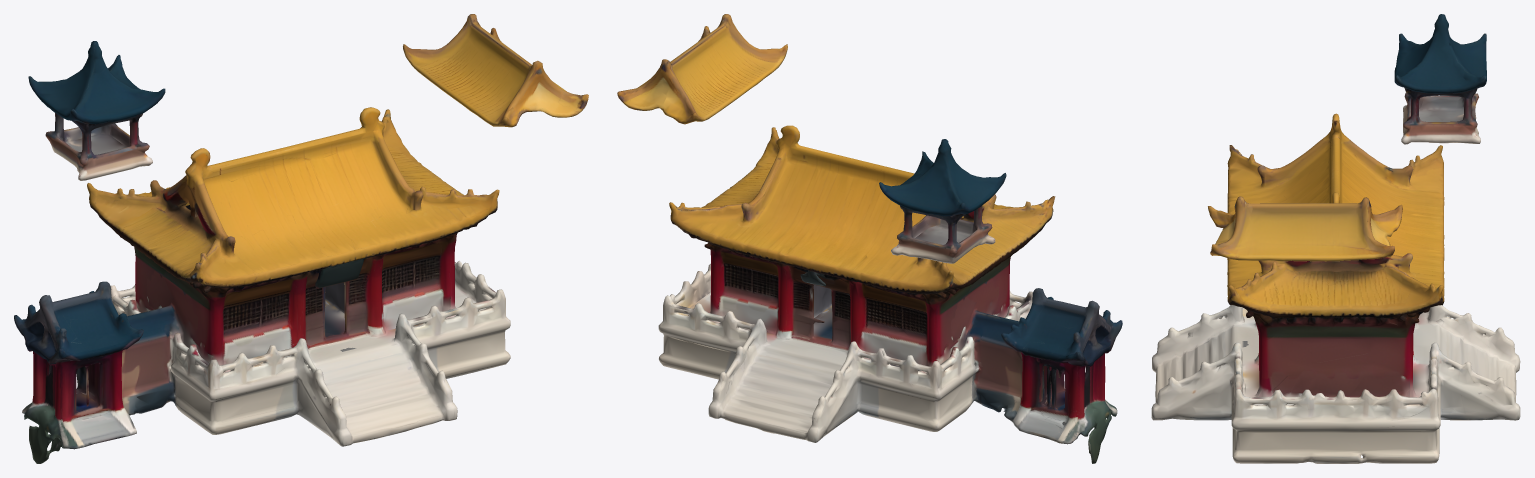
The picture shows the model from 3 angles, left to right: view 1: azimuth 30°, elevation 25°; view 2: azimuth 150°, elevation 25°; view 3: azimuth 270°, elevation 25°; orthographic projection. The views are drawn at different scales.
Visible parts, largest first — view 1: material.001; view 2: material.001; view 3: material.001.
Boxes of the visible parts, left/top/right/bottom form: material.001: left=14, top=14, right=588, bottom=463; material.001: left=617, top=14, right=1122, bottom=463; material.001: left=1151, top=14, right=1520, bottom=463.
Size of the model in its own units: 0.9919 by 0.6946 by 0.6753.
Materials: 1 (1 with a texture image).
